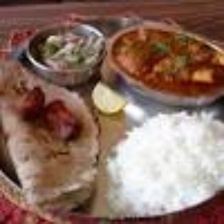rice: (109, 112, 224, 211)
